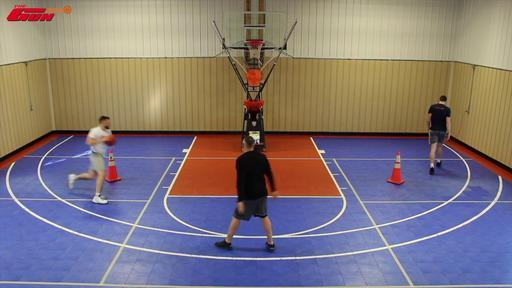ball: (105, 135, 117, 146)
human: (214, 136, 278, 252), (68, 116, 113, 204), (426, 95, 451, 175)
rim: (243, 38, 267, 58)
